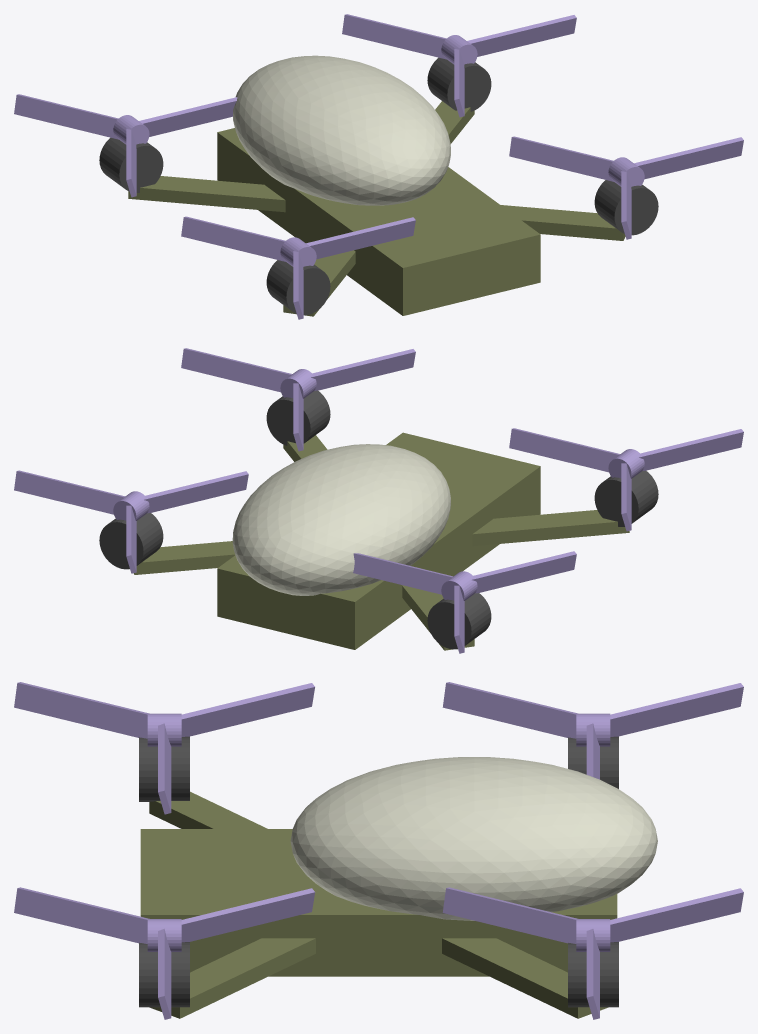
Rendered from Typhon.glb.
3 renders of one model, top to bottom at view 1: azimuth 30°, elevation 25°; view 2: azimuth 150°, elevation 25°; view 3: azimuth 270°, elevation 25°, orthographic. The views are drawn at different scales.
Parts seen in each view (by area): view 1: canopy, frame_body, prop_2, prop_0, prop_1, prop_3, arm_3, arm_0, motor_0, motor_2, motor_1, motor_3 (+2 smaller); view 2: canopy, frame_body, prop_1, prop_2, prop_0, prop_3, arm_2, arm_1, motor_1, motor_3, motor_0, motor_2 (+2 smaller); view 3: canopy, frame_body, prop_2, prop_0, prop_1, prop_3, arm_1, arm_0, motor_0, motor_1, arm_2, motor_2 (+1 smaller).
Boxes of the visible parts, x1,y1,x2,y2 form: canopy: (233, 55, 450, 205); frame_body: (217, 128, 540, 315); prop_2: (181, 216, 415, 319); prop_0: (509, 136, 743, 239); prop_1: (342, 14, 576, 117); prop_3: (14, 94, 237, 197); arm_3: (128, 176, 285, 212); arm_0: (501, 205, 625, 240); motor_0: (594, 180, 658, 235); motor_2: (266, 260, 330, 315); motor_1: (427, 57, 491, 111); motor_3: (99, 137, 163, 192); canopy: (232, 444, 450, 595); frame_body: (217, 432, 540, 649); prop_1: (14, 470, 248, 573); prop_2: (509, 428, 743, 531); prop_0: (181, 348, 415, 451); prop_3: (353, 551, 576, 653); arm_2: (472, 510, 629, 546); arm_1: (134, 541, 235, 574); motor_1: (99, 513, 163, 569); motor_3: (427, 593, 491, 649); motor_0: (266, 390, 330, 445); motor_2: (594, 471, 658, 526); canopy: (290, 757, 657, 920); frame_body: (140, 829, 617, 976); prop_2: (14, 682, 314, 814); prop_0: (14, 887, 315, 1019); prop_1: (442, 887, 743, 1019); prop_3: (442, 682, 743, 779); arm_1: (442, 938, 608, 1018); arm_0: (149, 938, 315, 1018); motor_0: (139, 942, 189, 1007); motor_1: (568, 942, 618, 1007); arm_2: (149, 791, 267, 828); motor_2: (139, 736, 189, 801).
Size of the model in its own units: 0.2195 by 0.0516 by 0.2145.
